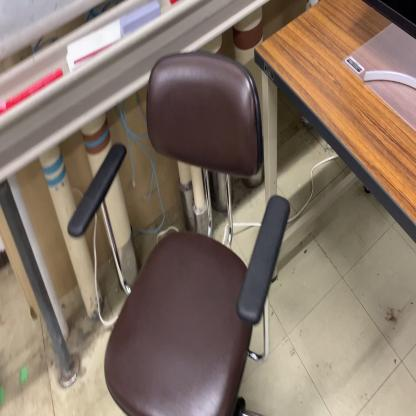chair: (66, 49, 290, 416)
